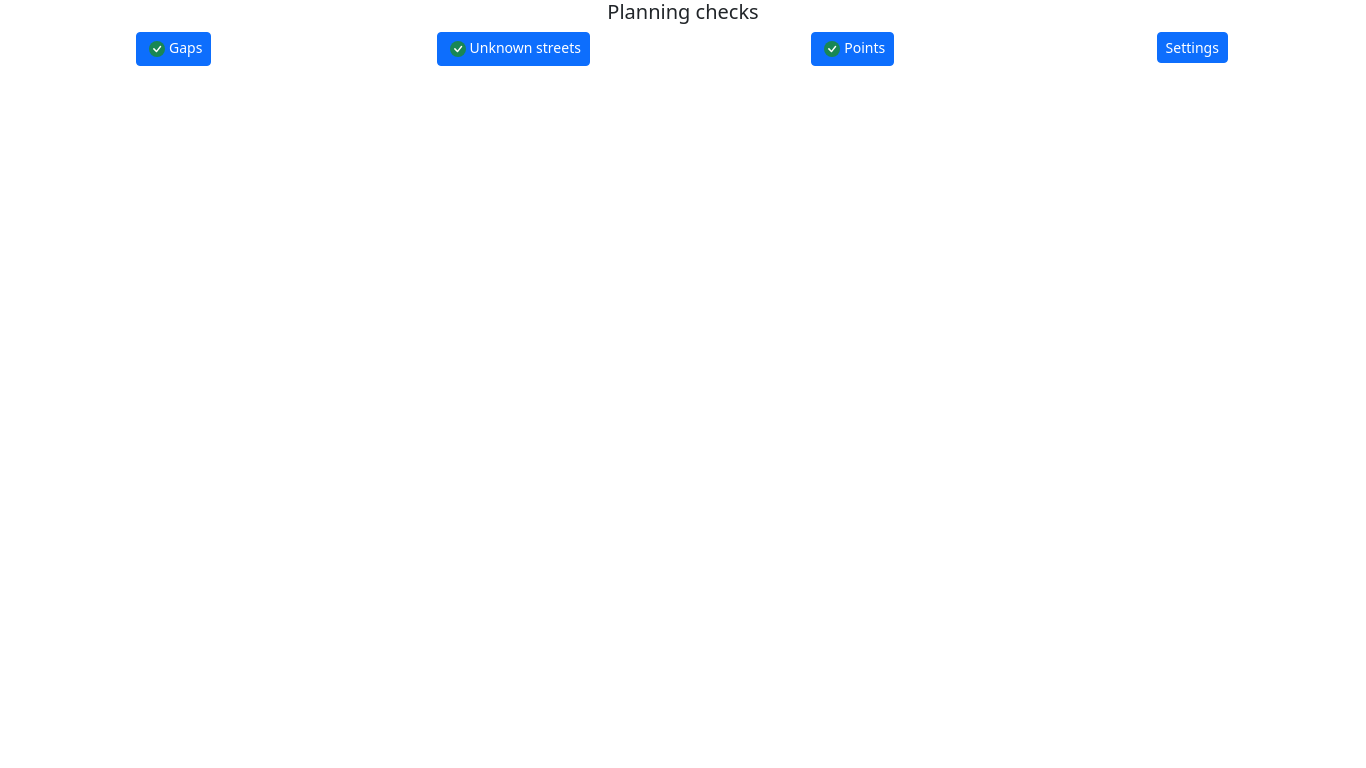
Test case: SimplePlanningChecks › opens settings with API keys and street reset controls
The width and height of the screenshot is (1366, 768).
Click the button "Settings": [1192, 48] box x1=1157 y1=32 x2=1228 y2=63
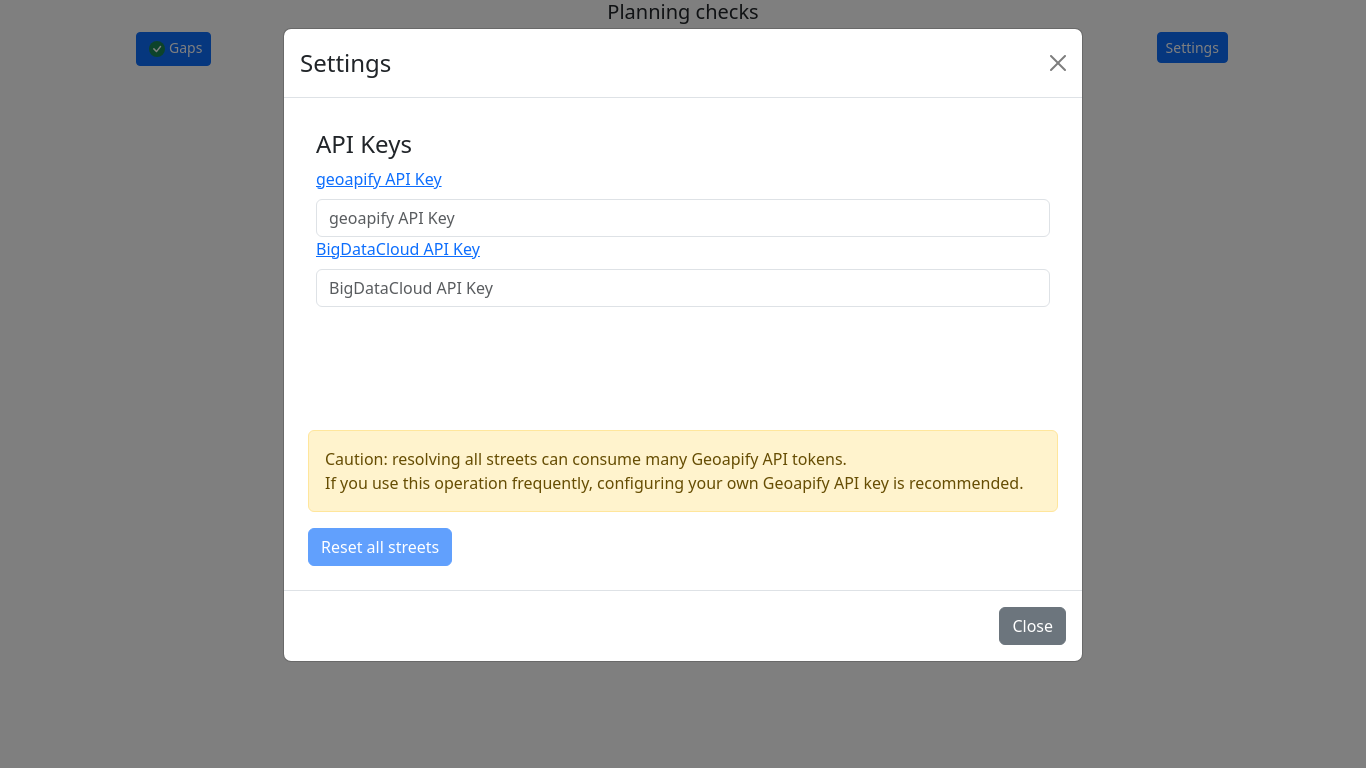
Result: the dialog is shown at x1=283 y1=28 x2=1083 y2=662
Result: the link "geoapify API Key" is shown at x1=316 y1=168 x2=442 y2=190
Result: the button "Reset all streets" is shown at x1=308 y1=528 x2=452 y2=566
